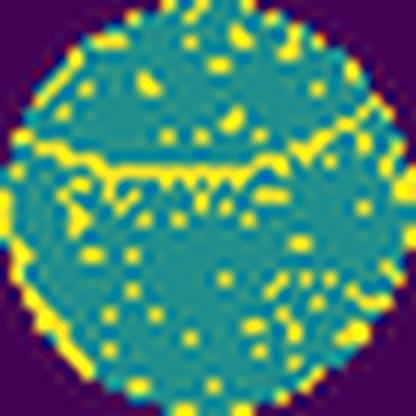Scratch: (11, 94, 387, 196)
